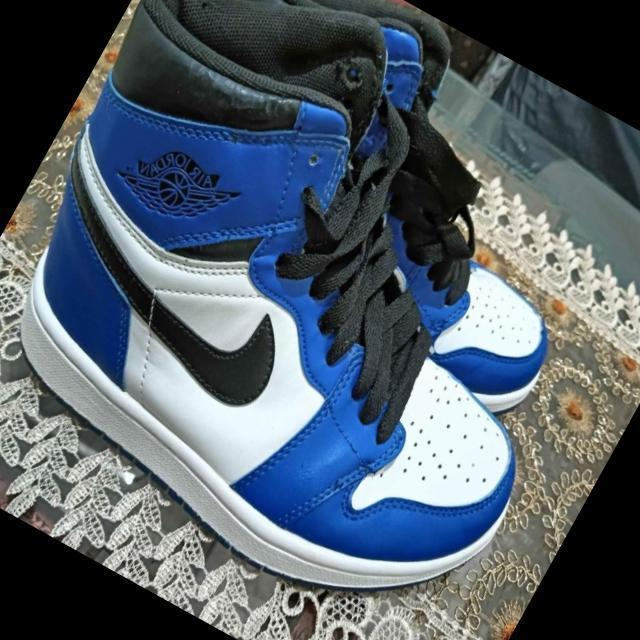nike fake jordan 1: (0, 0, 640, 640), (113, 0, 640, 427)
